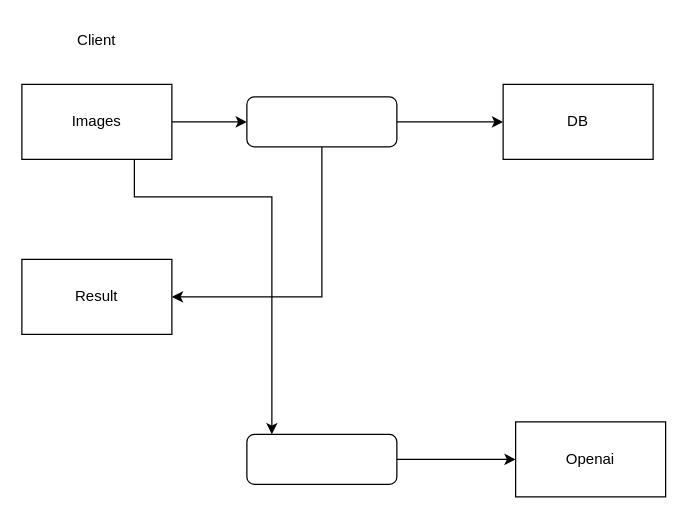
Image size: 688x519. Some labels were removed from this diagram. The shapes that lost their labels are listed below. From the top down, each one's box as (x1, y1, x2, y2) in pixels, then its label:
(246, 96, 397, 147): Upload
(246, 433, 397, 484): Process
